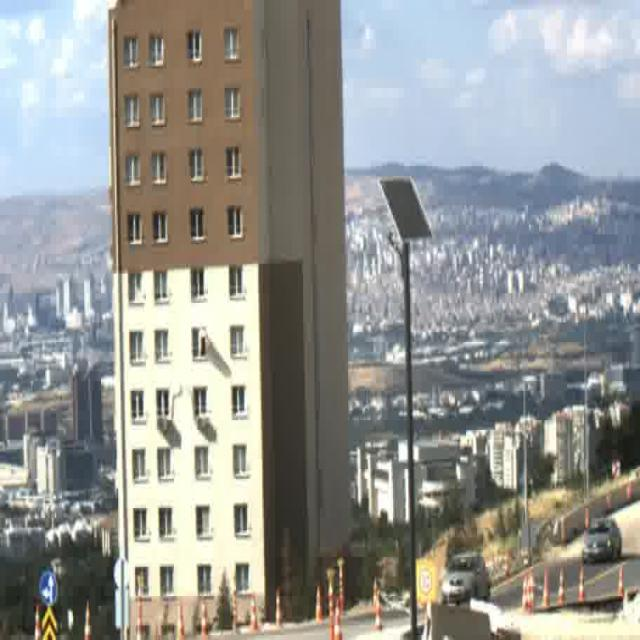Car: (441, 553, 492, 611), (582, 517, 622, 568)
